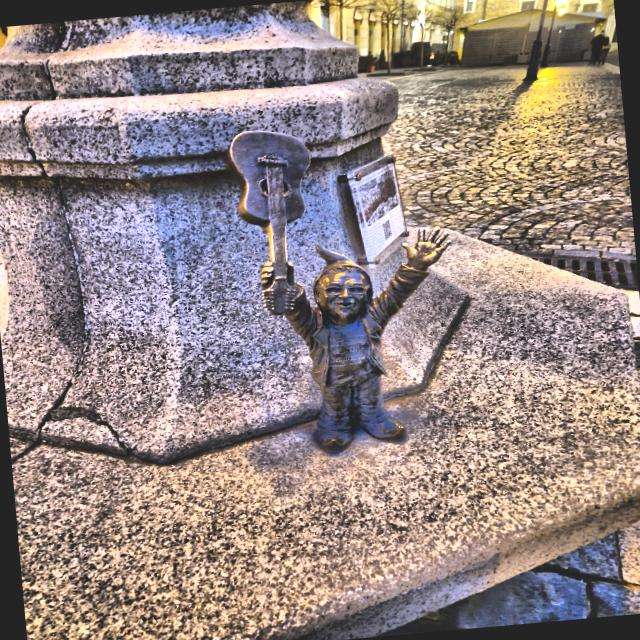Leszko_z_Wroclawia: (225, 131, 449, 456)
